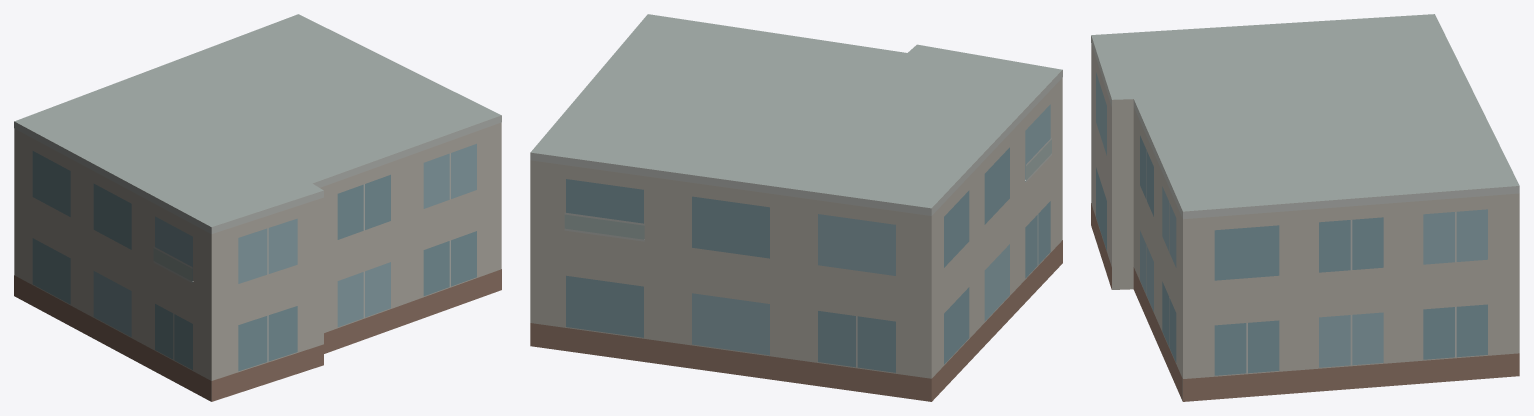
The model's file is survey-upis-32918203.glb.
3 renders of one model, left to right at view 1: azimuth 30°, elevation 25°; view 2: azimuth 150°, elevation 25°; view 3: azimuth 270°, elevation 25°, orthographic. The views are drawn at different scales.
Visible parts, largest first — view 1: survey-upis-32918203.tmp; view 2: survey-upis-32918203.tmp; view 3: survey-upis-32918203.tmp.
Boxes of the visible parts, x1,y1,x2,y2 form: survey-upis-32918203.tmp: (14,14,501,401); survey-upis-32918203.tmp: (530,14,1062,401); survey-upis-32918203.tmp: (1091,14,1519,401).
Size of the model in its own units: 13.6 by 6.1 by 12.47.
